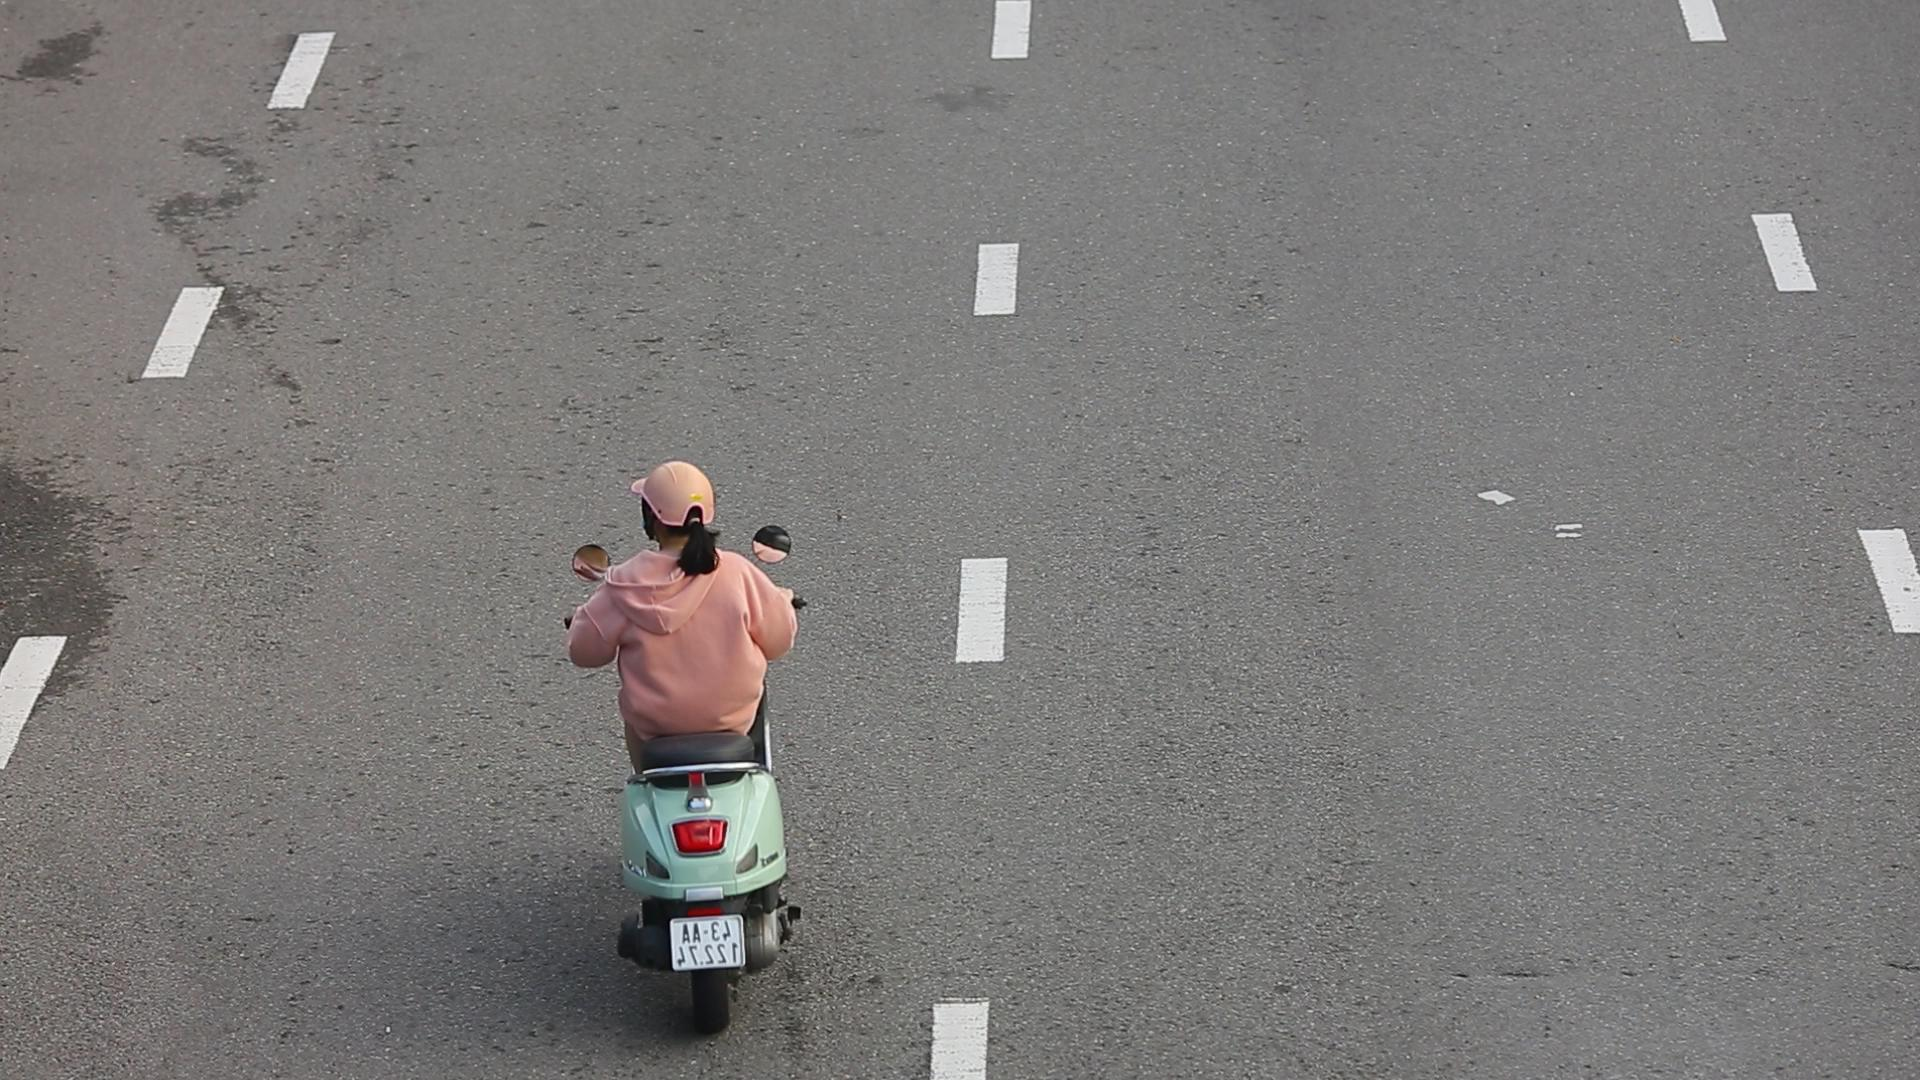motobike: (568, 455, 811, 1035)
